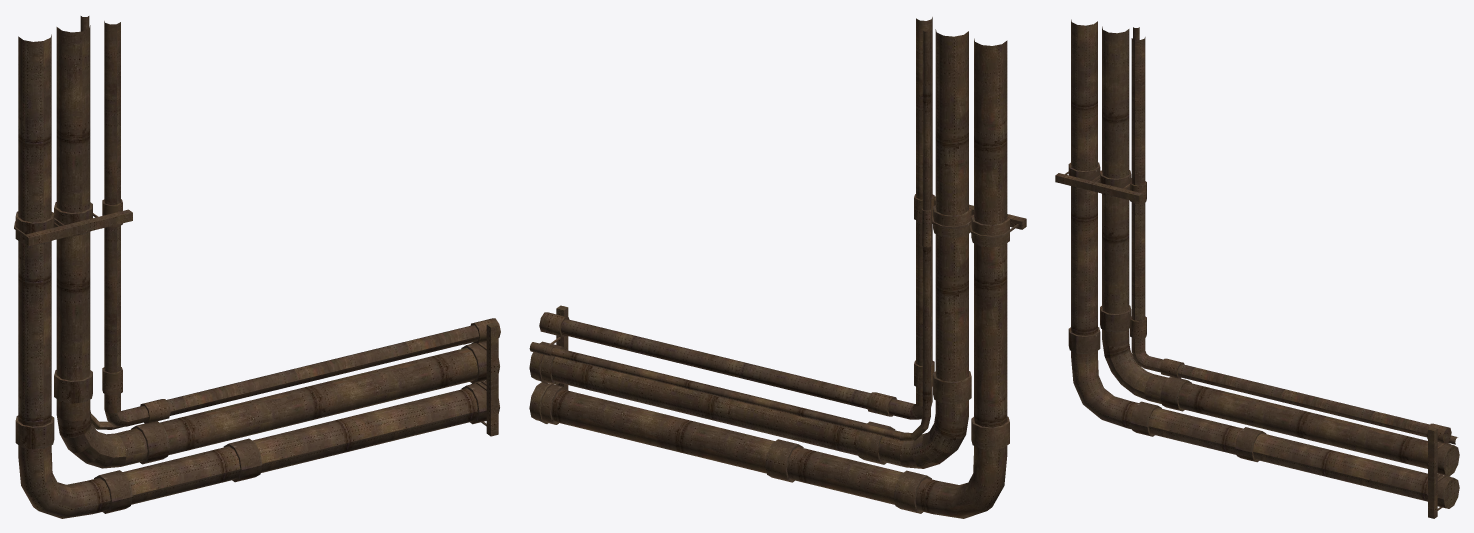
The model's file is pipeset08d_corner128u_001a.glb.
3 views of the same model, side by side, from view 1: azimuth 30°, elevation 25°; view 2: azimuth 150°, elevation 25°; view 3: azimuth 330°, elevation 25° (orthographic). The views are drawn at different scales.
Visible parts, largest first — view 1: 0_pipeset_metal; view 2: 0_pipeset_metal; view 3: 0_pipeset_metal.
Boxes of the visible parts, x1=… form: 0_pipeset_metal: x1=14, y1=16, x2=500, y2=518; 0_pipeset_metal: x1=529, y1=17, x2=1026, y2=518; 0_pipeset_metal: x1=1055, y1=19, x2=1459, y2=518.
Bounding box in the file's own units: 3.25 × 3.25 × 0.3048.
1 material, 1 textured.
